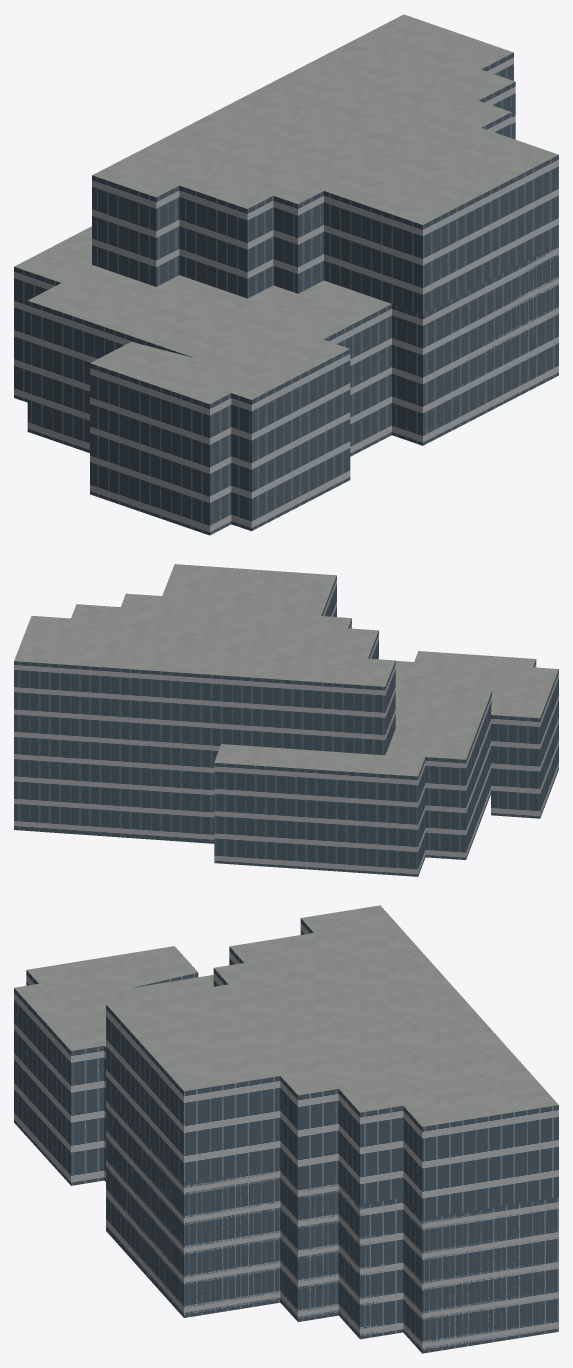
3 views of the same model, one above another, from view 1: azimuth 30°, elevation 25°; view 2: azimuth 150°, elevation 25°; view 3: azimuth 270°, elevation 25° (orthographic). The views are drawn at different scales.
Parts seen in each view (by area): view 1: hospital-emergency; view 2: hospital-emergency; view 3: hospital-emergency.
Part boxes in pixels (<box>): hospital-emergency: <box>14,14,558,535</box>; hospital-emergency: <box>14,564,558,876</box>; hospital-emergency: <box>14,905,558,1353</box>.
Bounding box in the file's own units: 70.35 × 27.25 × 59.38.
Materials: 2 (2 with a texture image).
